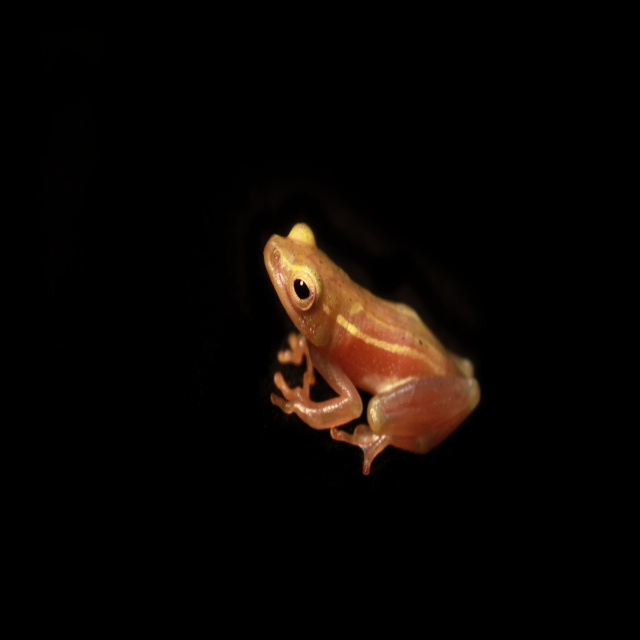Frog: (262, 221, 482, 481)
